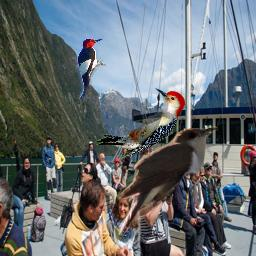Cuckoo: (114, 125, 218, 249)
Woodpecker: (94, 88, 185, 161), (72, 34, 106, 100)
